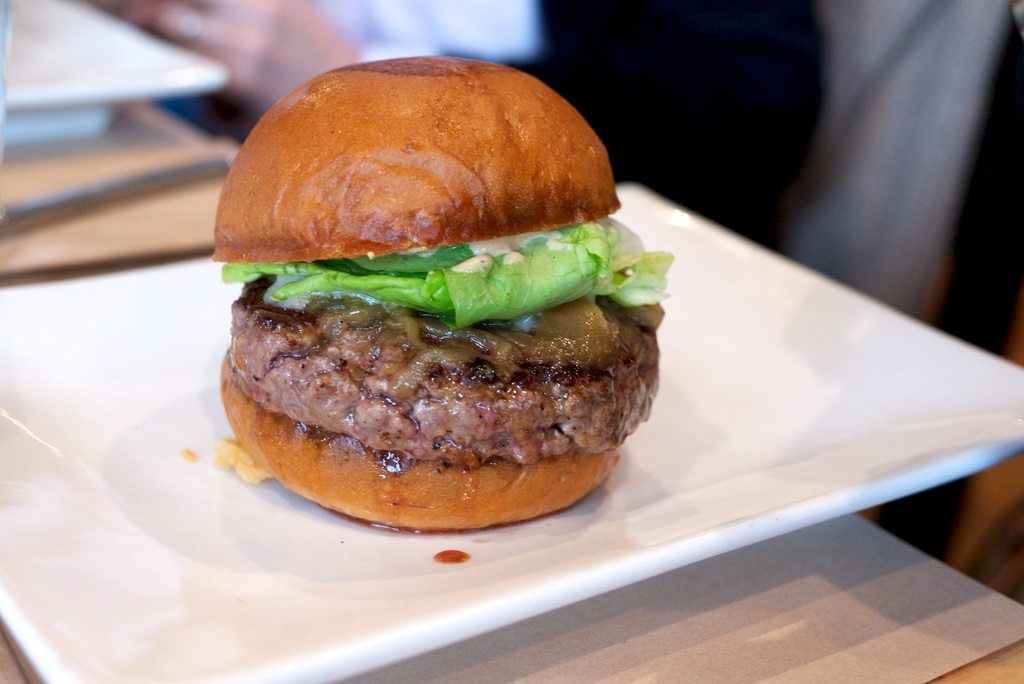Hamburger: (216, 51, 672, 534)
